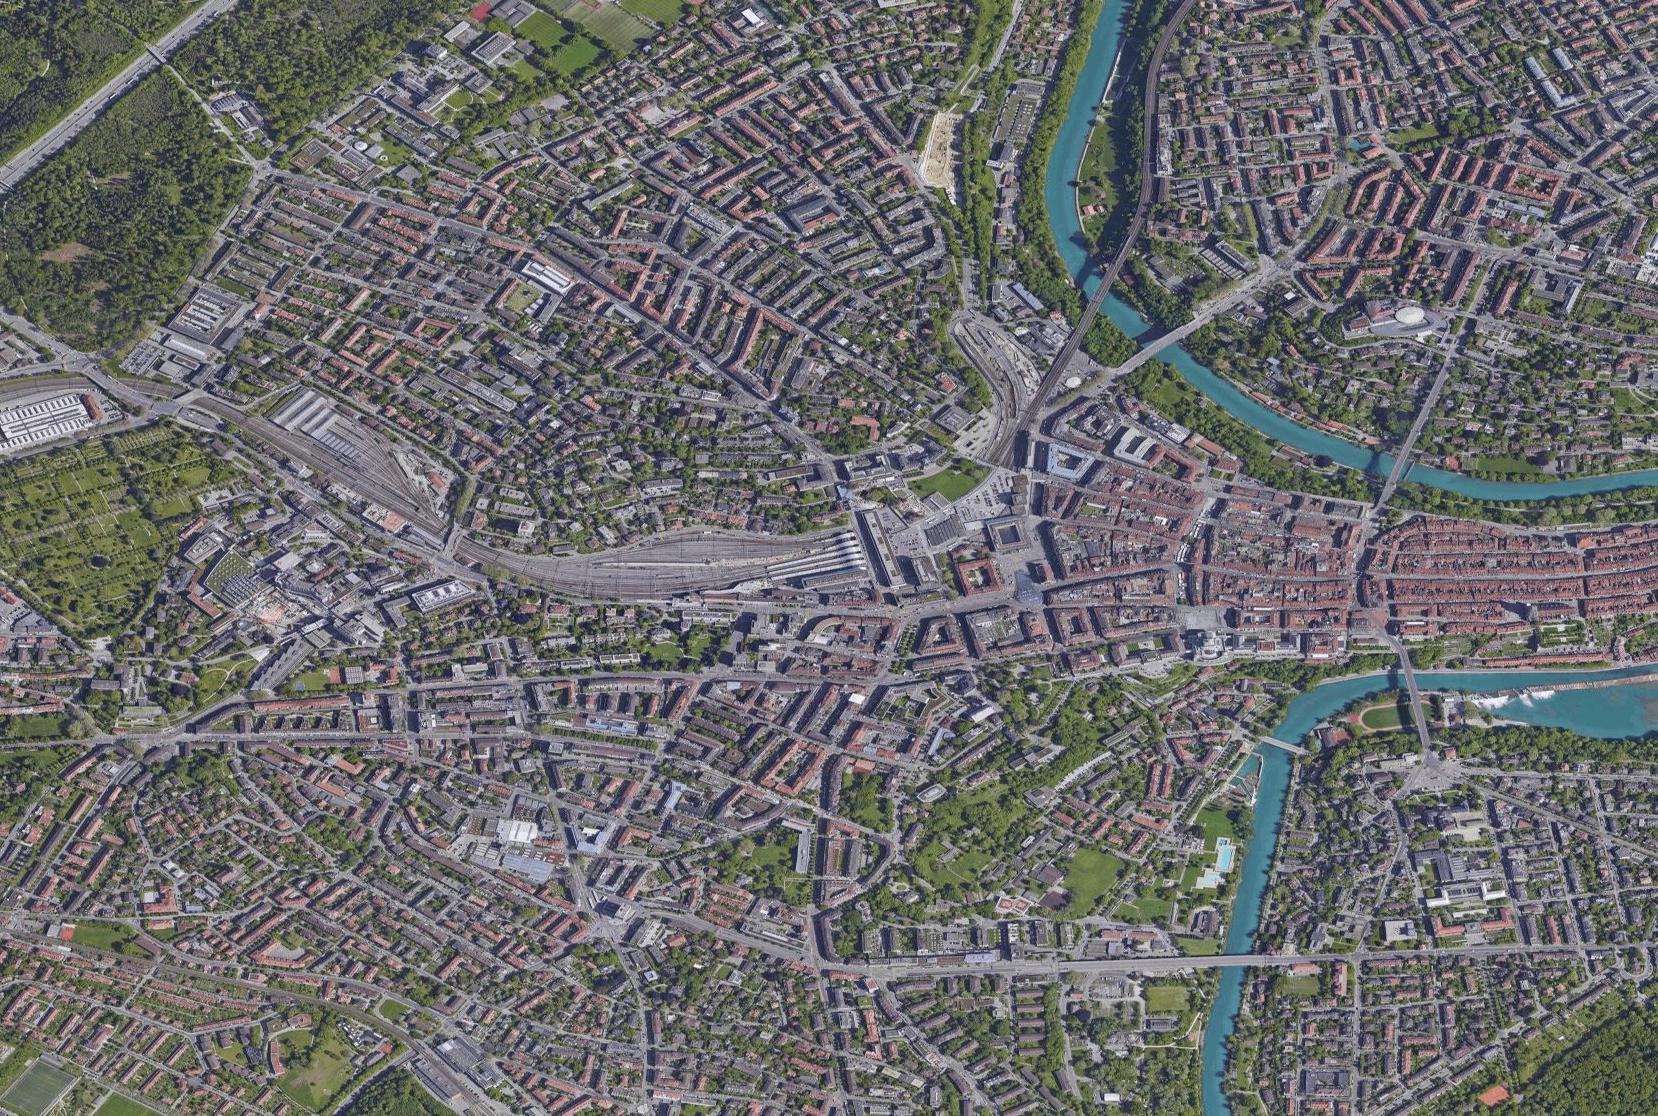bridge: (1215, 947, 1259, 972), (1085, 275, 1116, 310), (1144, 326, 1177, 357), (1384, 450, 1410, 483), (1398, 664, 1423, 696), (1263, 732, 1297, 755)
motorway: (93, 1, 222, 102), (1, 100, 92, 201)
train_station: (745, 517, 881, 597)
